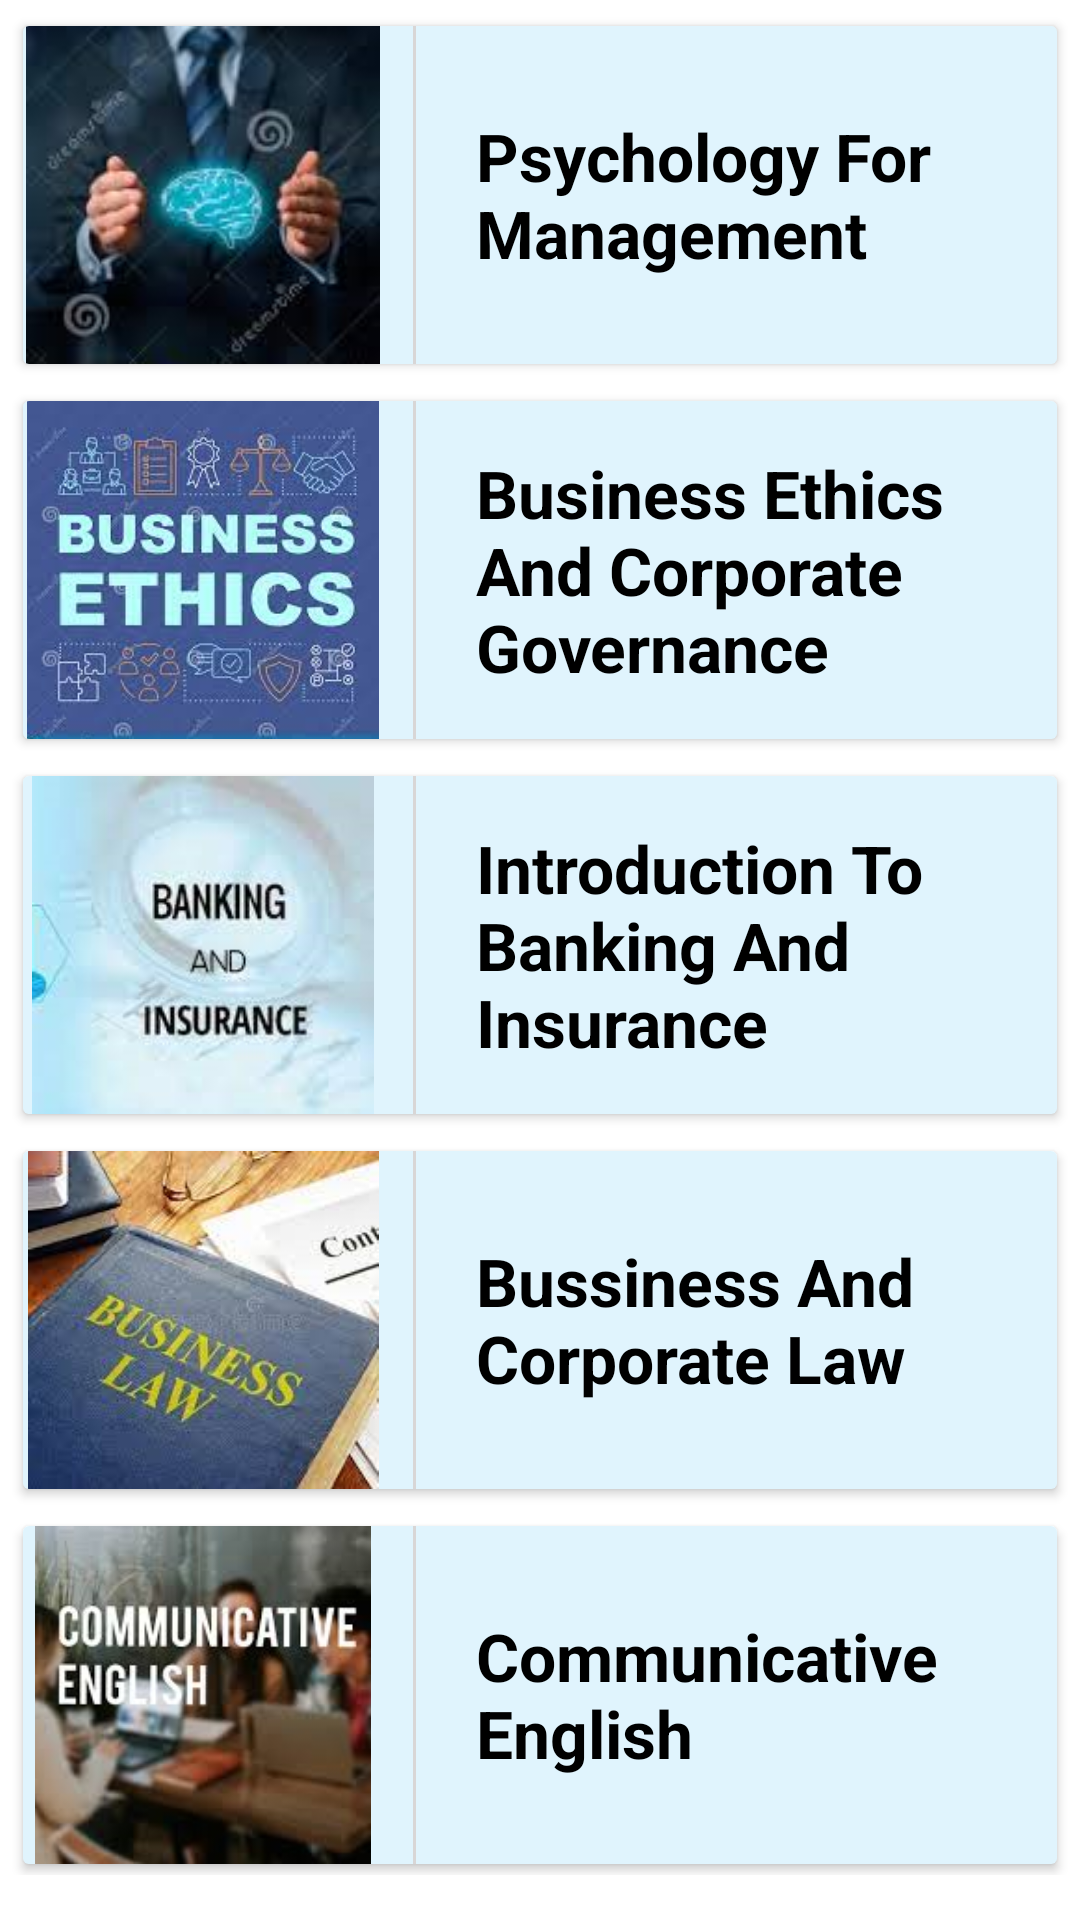

Where icons sit on this 1080px×1920px app screen, as (x1, y1, x2, y2):
psycology: (26, 26, 380, 364)
